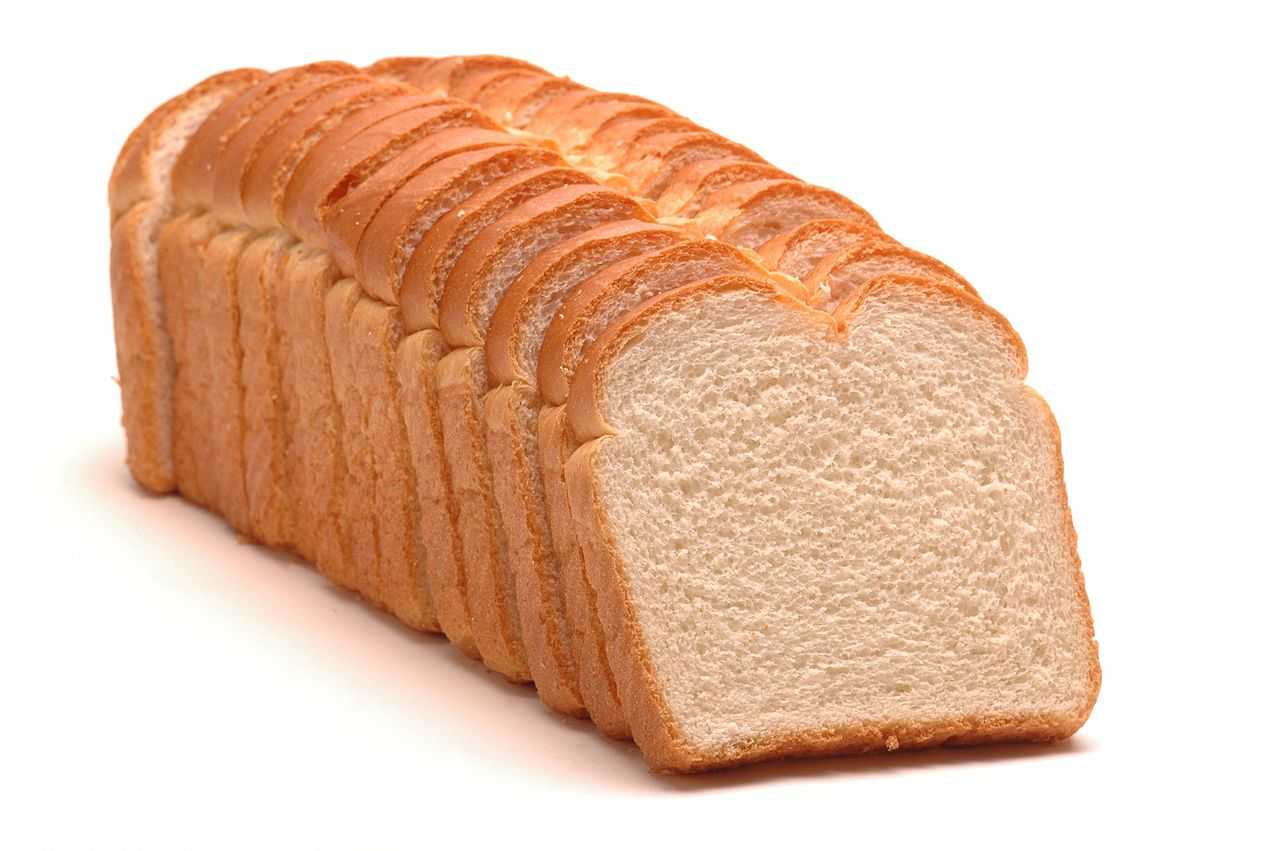slice of bread: (84, 58, 1104, 751)
